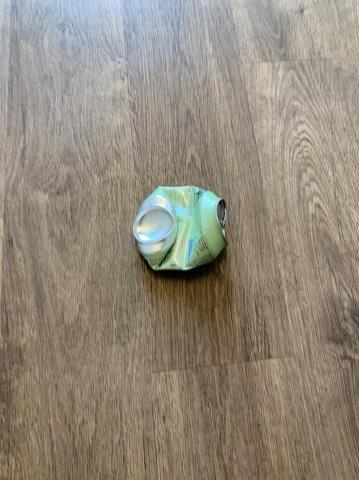kaleng: (133, 186, 226, 270)
